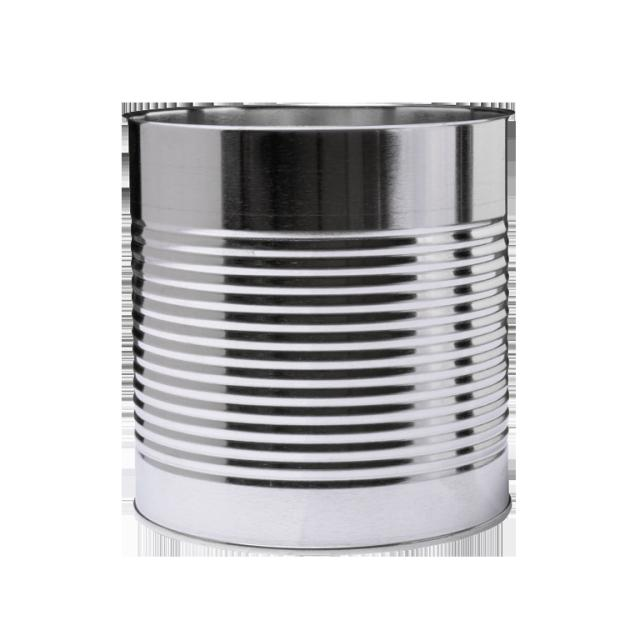metal: (114, 79, 524, 567)
